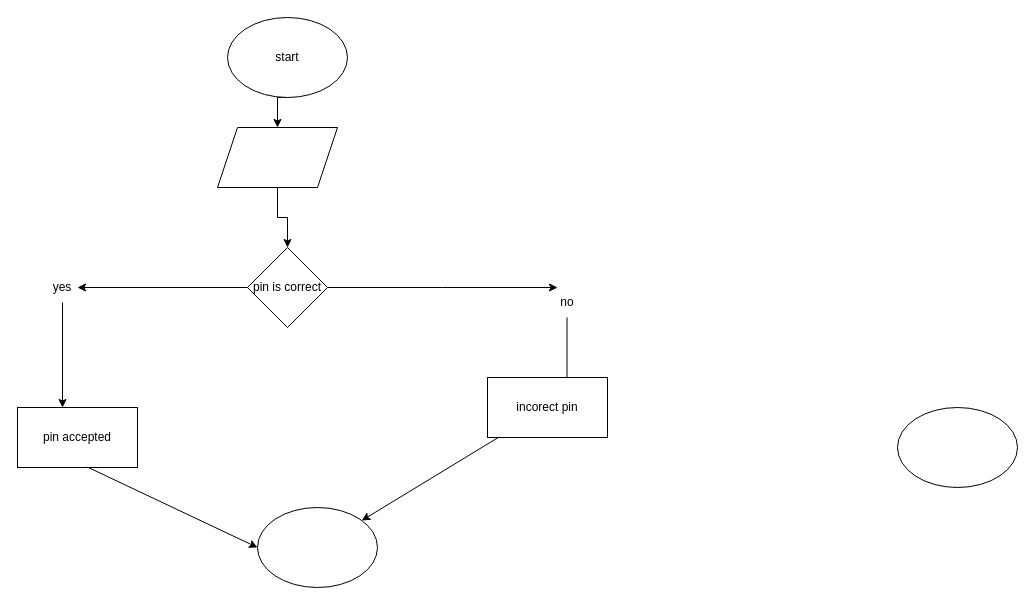
This 1035x605 diagram has some shape labels left out. Each missing label, with the centre of its shape:
"end" belongs at point 317,547.
"input" belongs at point 277,157.
